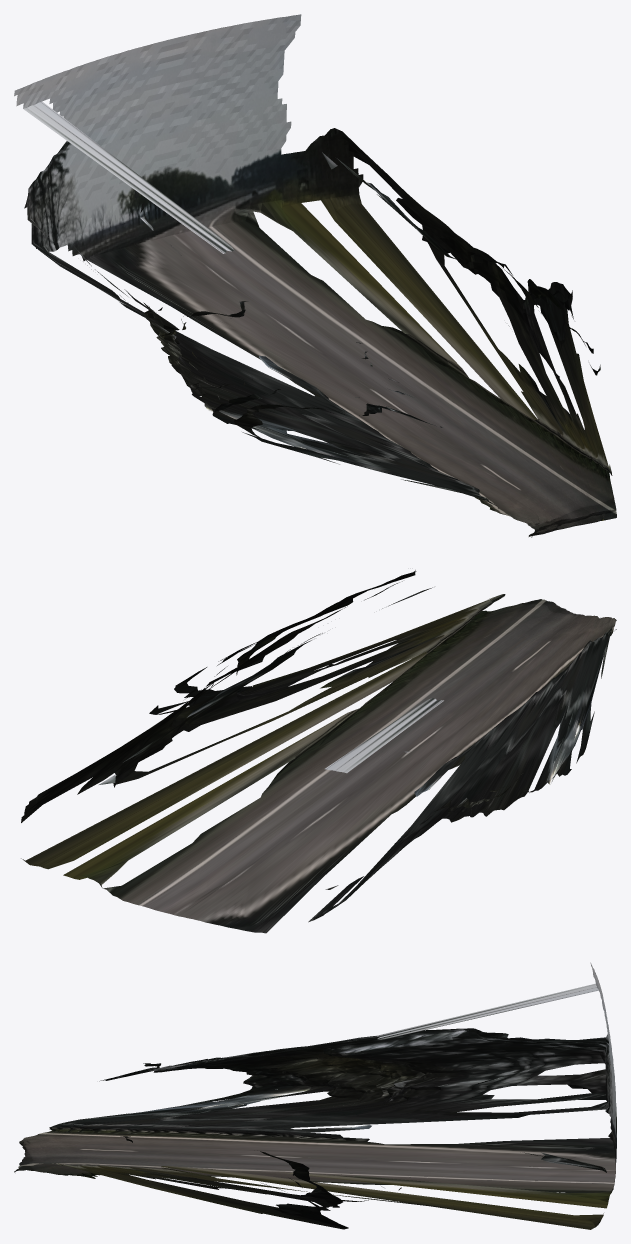
3 renders of one model, top to bottom at view 1: azimuth 30°, elevation 25°; view 2: azimuth 150°, elevation 25°; view 3: azimuth 270°, elevation 25°, orthographic. The views are drawn at different scales.
Visible parts, largest first — view 1: defaultobject; view 2: defaultobject; view 3: defaultobject.
Part boxes in pixels (box(x1,y1,x2,y2)): defaultobject: box(14, 14, 616, 537); defaultobject: box(21, 570, 616, 933); defaultobject: box(14, 962, 616, 1229).
Bounding box in the file's own units: 24.38 × 12.35 × 44.55.
Materials: 1 (1 with a texture image).
